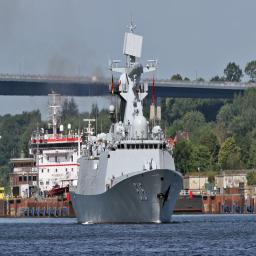Fragata: (69, 9, 186, 228)
